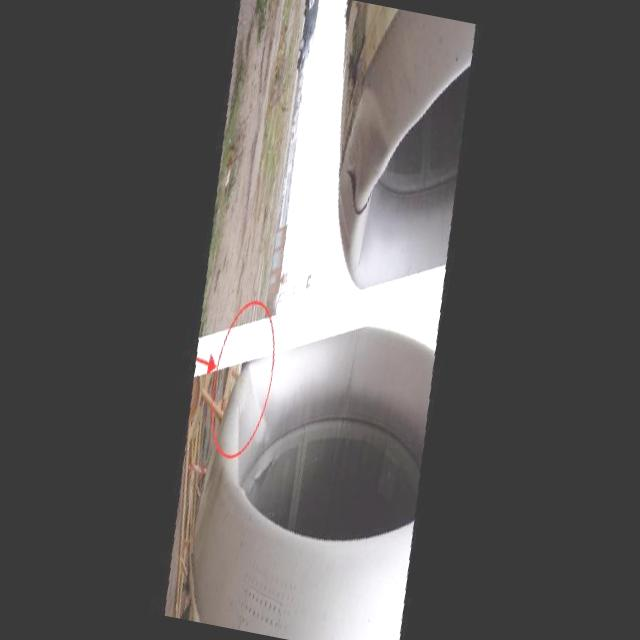dent: (350, 84, 398, 174)
